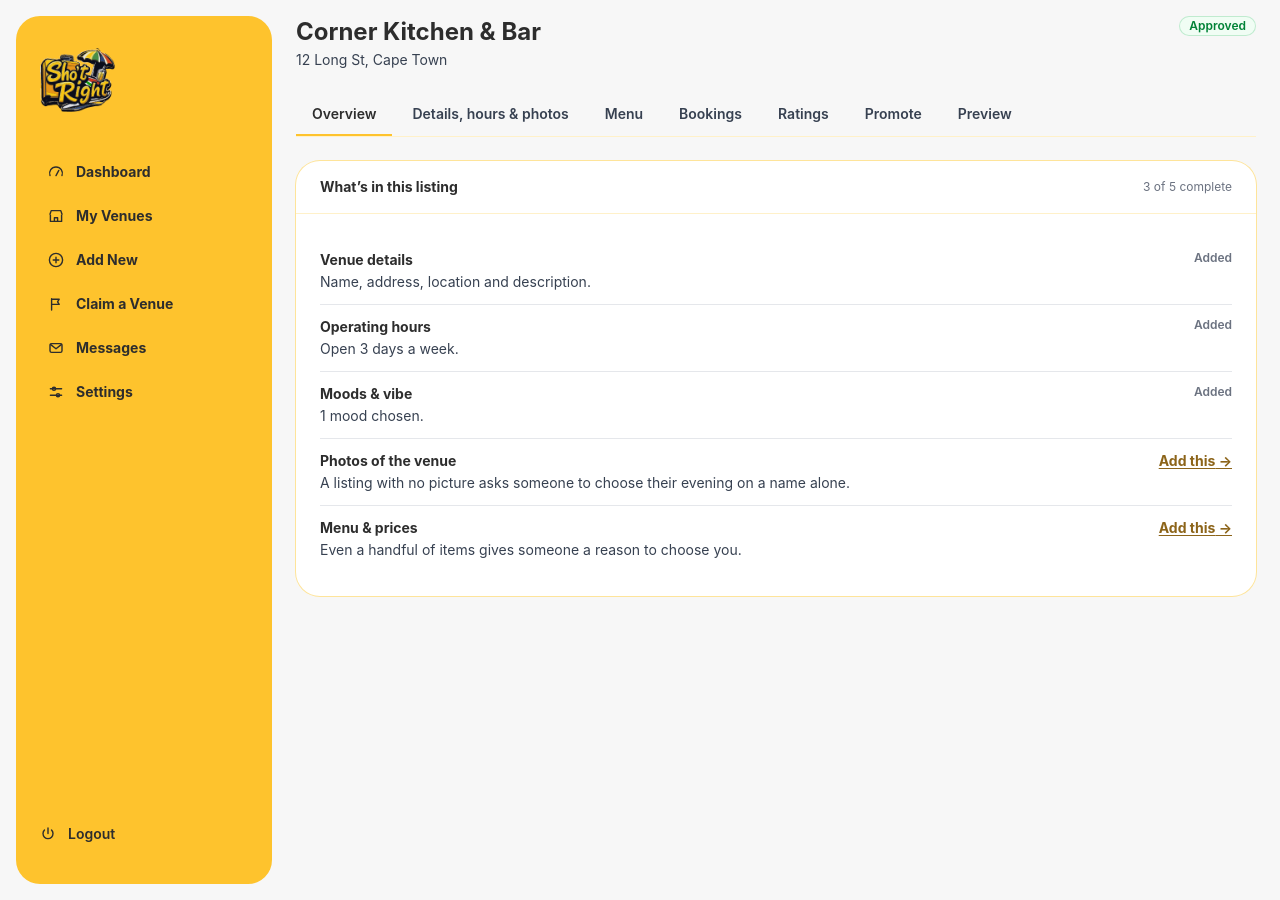
Test: one venue, one place › moves between them without leaving the venue
Click the link "Menu" at x=624, y=114, box [605,105,643,122]
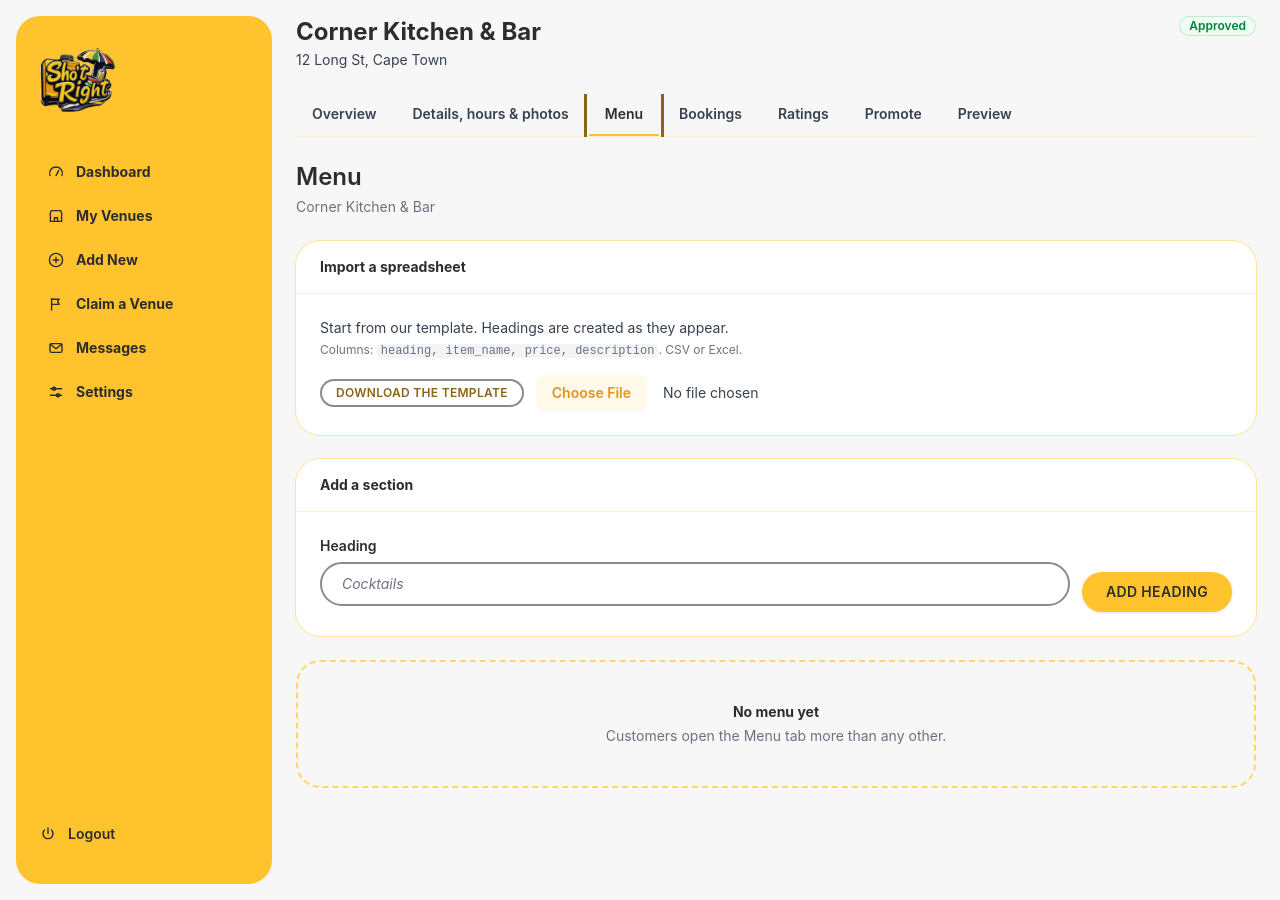
Expected: the navigation bar named "venue sections" is shown, [296,94,1256,137]
Now the field labelled "Heading" is shown, box [320,562,1070,606]
